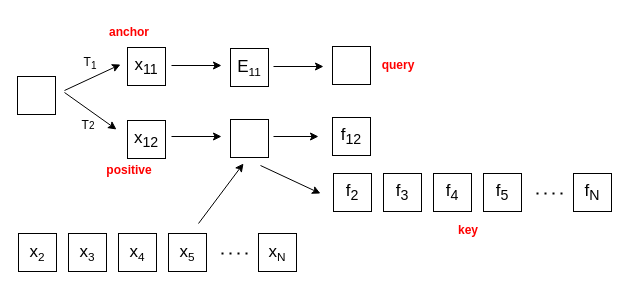
This 629x289 diagram has some shape labels left out. The box of each missing label's shape, as (x1, y1, x2, y2) in pixels:
E 12: (230, 118, 268, 158)
f 11: (332, 46, 370, 84)
x 1: (16, 76, 56, 114)
